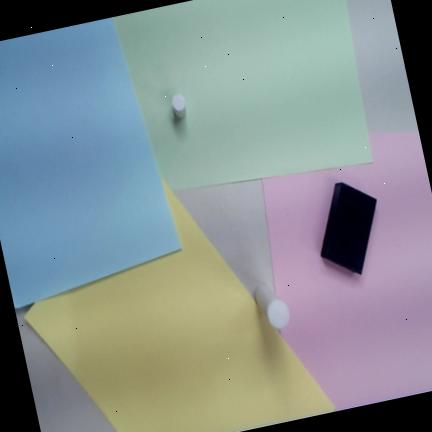Cilindro: (255, 284, 290, 329), (172, 93, 186, 118)
Paralelepipedo: (320, 183, 377, 275)
